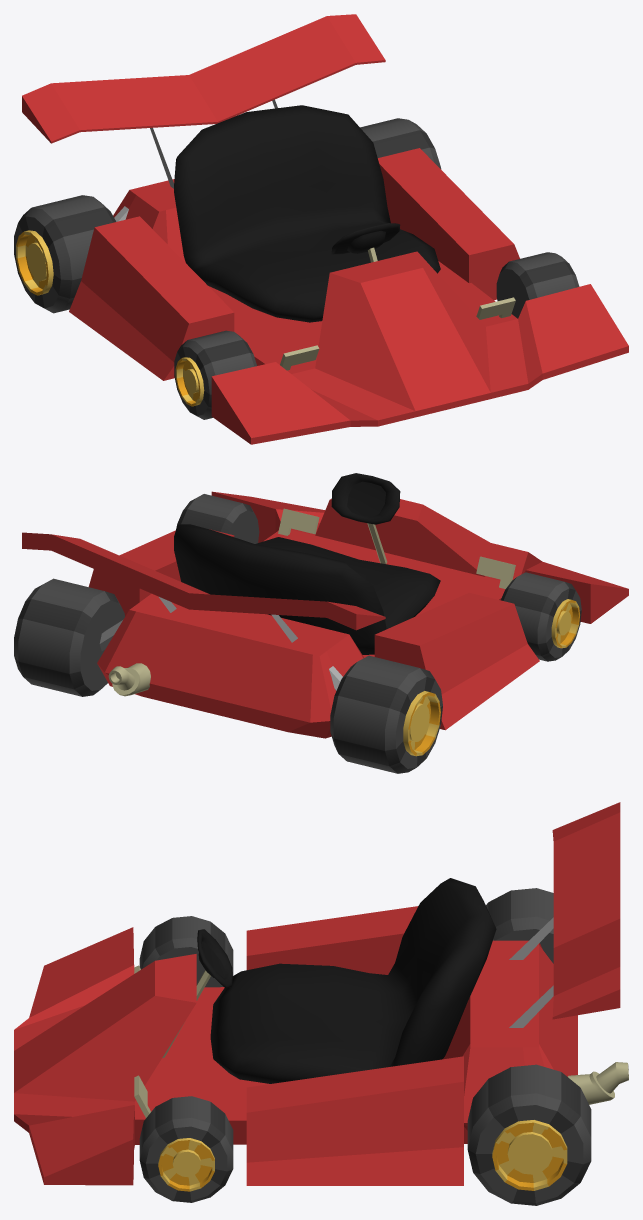
The model's file is Kart_001_ApplyModifiers_02.fbx.
3 views of the same model, one above another, from view 1: azimuth 30°, elevation 25°; view 2: azimuth 150°, elevation 25°; view 3: azimuth 270°, elevation 25° (orthographic). The views are drawn at different scales.
Visible parts, largest first — view 1: KartFrame, Seat, SideBumpers, Spoiler, RightBackWheel, RightFrontWheel, LeftFrontWheel, LeftBackWheel, SteeringWheel, Pedals; view 2: KartFrame, Seat, SideBumpers, RightBackWheel, LeftBackWheel, Spoiler, RightFrontWheel, SteeringWheel, LeftFrontWheel, Pedals, Exhaust, Cylinder; view 3: KartFrame, SideBumpers, Seat, LeftBackWheel, Spoiler, LeftFrontWheel, RightBackWheel, RightFrontWheel, Exhaust, SteeringWheel, SpolierSurport.
Part boxes in pixels (x1=…): KartFrame: x1=113, y1=179, x2=628, y2=444; Seat: x1=174, y1=105, x2=440, y2=322; SideBumpers: x1=69, y1=148, x2=519, y2=380; Spoiler: x1=22, y1=14, x2=385, y2=143; RightBackWheel: x1=14, y1=195, x2=116, y2=313; RightFrontWheel: x1=174, y1=330, x2=256, y2=419; LeftFrontWheel: x1=496, y1=252, x2=579, y2=318; LeftBackWheel: x1=360, y1=118, x2=441, y2=169; SteeringWheel: x1=331, y1=223, x2=400, y2=254; Pedals: x1=280, y1=297, x2=515, y2=370; KartFrame: x1=97, y1=491, x2=628, y2=738; Seat: x1=174, y1=524, x2=440, y2=654; SideBumpers: x1=88, y1=529, x2=539, y2=730; RightBackWheel: x1=330, y1=655, x2=442, y2=773; LeftBackWheel: x1=14, y1=578, x2=124, y2=696; Spoiler: x1=22, y1=532, x2=385, y2=630; RightFrontWheel: x1=501, y1=572, x2=581, y2=661; SteeringWheel: x1=331, y1=473, x2=400, y2=524; LeftFrontWheel: x1=176, y1=494, x2=259, y2=543; Pedals: x1=278, y1=508, x2=515, y2=588; Exhaust: x1=108, y1=663, x2=150, y2=696; Cylinder: x1=99, y1=620, x2=342, y2=690; KartFrame: x1=14, y1=927, x2=577, y2=1185; SideBumpers: x1=246, y1=906, x2=463, y2=1185; Seat: x1=210, y1=878, x2=496, y2=1083; LeftBackWheel: x1=467, y1=1064, x2=591, y2=1205; Spoiler: x1=552, y1=802, x2=620, y2=1019; LeftFrontWheel: x1=139, y1=1096, x2=233, y2=1202; RightBackWheel: x1=486, y1=888, x2=553, y2=963; RightFrontWheel: x1=139, y1=916, x2=233, y2=987; Exhaust: x1=568, y1=1062, x2=628, y2=1104; SteeringWheel: x1=197, y1=929, x2=232, y2=988; SpolierSurport: x1=509, y1=917, x2=553, y2=1027.
Size of the model in its own units: 268 by 122 by 317.
